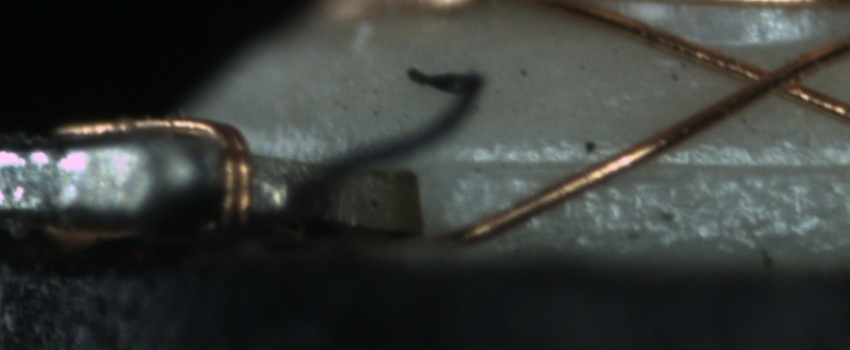CL: (727, 52, 822, 105)
DL: (440, 134, 849, 192)
TE: (32, 103, 270, 230)
